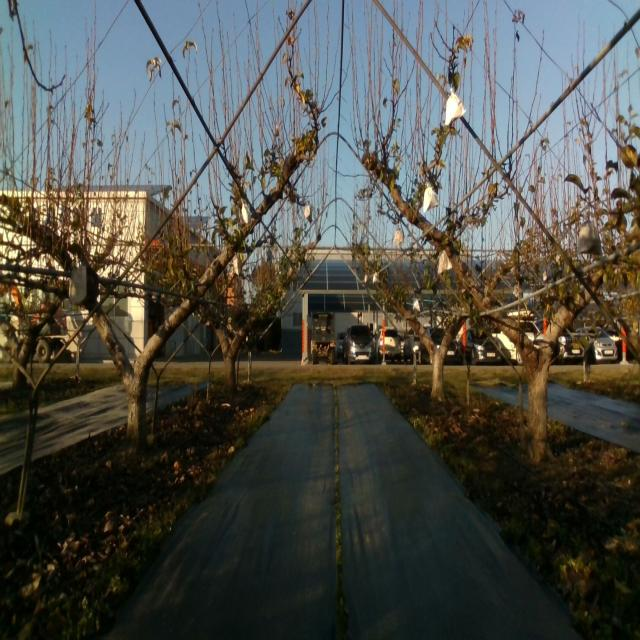pearbags: (577, 211, 602, 255), (445, 88, 466, 127), (423, 185, 439, 212), (437, 249, 452, 274)
